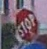stop: (13, 7, 37, 45)
